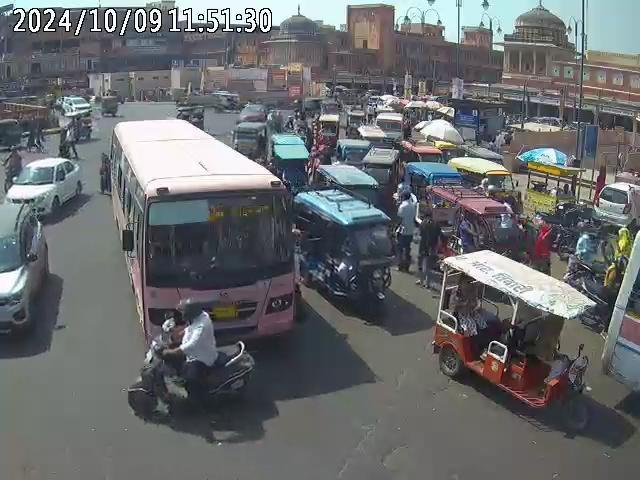auto: (427, 249, 598, 432), (290, 187, 395, 310), (266, 130, 311, 189), (230, 121, 267, 159), (313, 113, 340, 155), (336, 137, 372, 167), (176, 103, 206, 130)
bus: (102, 116, 298, 370), (602, 201, 638, 432)
car: (4, 155, 83, 217), (0, 119, 32, 155), (58, 96, 93, 114)
helmet: (171, 299, 206, 324)
person: (522, 211, 555, 274)
scooty-rider: (135, 299, 256, 416)
